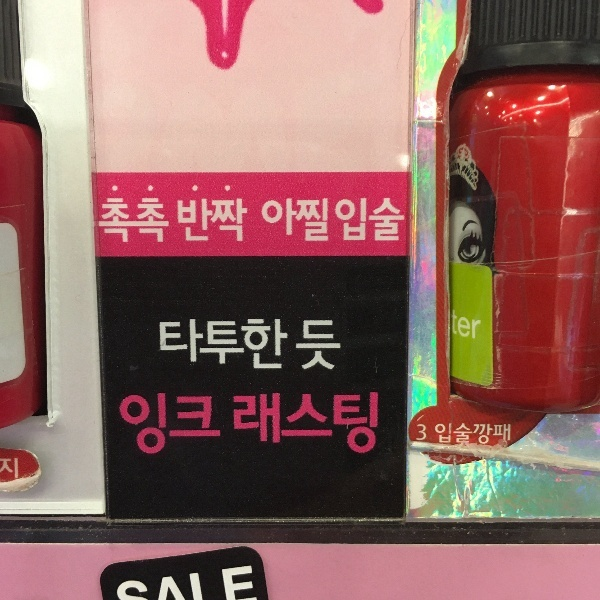text: (241, 392, 256, 458), (257, 392, 272, 458), (273, 392, 288, 458), (289, 392, 304, 458), (305, 392, 320, 458), (321, 392, 336, 458), (337, 392, 352, 458), (353, 392, 368, 458), (113, 393, 128, 459), (129, 393, 144, 459), (145, 393, 160, 459), (161, 393, 176, 459), (177, 393, 192, 459), (193, 393, 208, 459), (209, 393, 222, 459), (161, 318, 176, 371), (177, 318, 192, 371), (193, 318, 208, 371), (209, 318, 224, 371), (225, 318, 240, 371), (241, 318, 256, 371), (257, 318, 272, 371), (273, 318, 288, 371), (305, 319, 320, 372), (321, 319, 336, 372), (273, 198, 288, 244), (289, 198, 304, 244), (305, 198, 320, 244), (321, 198, 336, 244), (337, 198, 352, 244), (353, 198, 368, 244), (369, 198, 384, 244), (385, 198, 400, 244), (97, 198, 112, 244), (113, 198, 128, 244), (129, 198, 144, 244), (145, 198, 160, 244), (177, 198, 192, 243), (193, 198, 208, 243), (209, 198, 224, 243), (225, 198, 240, 243), (369, 392, 379, 458), (161, 198, 174, 244), (337, 319, 348, 372), (260, 198, 272, 244), (294, 319, 304, 372), (232, 392, 240, 458), (129, 565, 144, 600), (145, 565, 160, 600), (161, 565, 176, 600), (177, 565, 192, 600), (193, 565, 208, 600), (209, 565, 224, 600), (225, 565, 240, 600), (241, 565, 256, 600), (465, 308, 481, 340), (450, 308, 464, 340), (241, 198, 249, 243), (449, 423, 464, 447), (465, 423, 480, 447), (481, 423, 496, 447), (497, 423, 512, 447), (1, 457, 16, 480), (434, 423, 448, 447), (401, 198, 407, 244), (121, 565, 128, 600), (417, 424, 427, 443), (158, 318, 160, 371), (289, 318, 291, 371), (257, 565, 259, 600), (17, 457, 19, 480)
